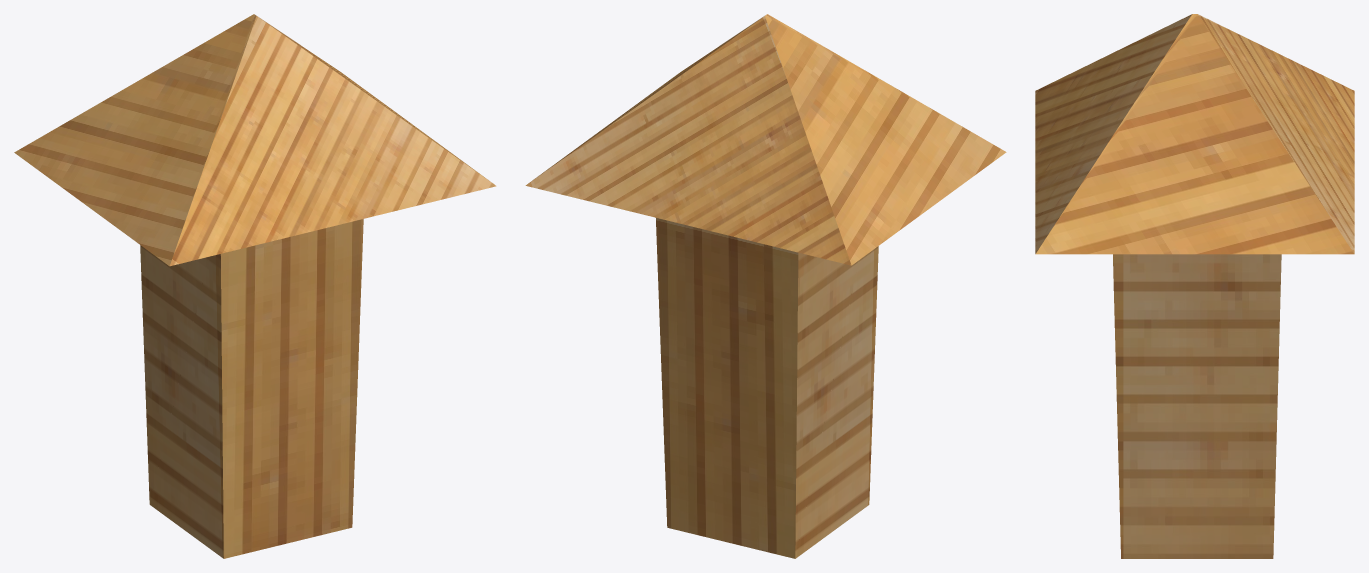
File: Arrow.fbx
3 renders of one model, left to right at view 1: azimuth 30°, elevation 25°; view 2: azimuth 150°, elevation 25°; view 3: azimuth 270°, elevation 25°, orthographic. The views are drawn at different scales.
Visible parts, largest first — view 1: pCube2; view 2: pCube2; view 3: pCube2.
Boxes of the visible parts, x1=… form: pCube2: x1=14, y1=14, x2=496, y2=558; pCube2: x1=525, y1=14, x2=1006, y2=558; pCube2: x1=1035, y1=14, x2=1354, y2=558.
Bounding box in the file's own units: 5.83 × 8.53 × 4.8.
1 material, 1 textured.
